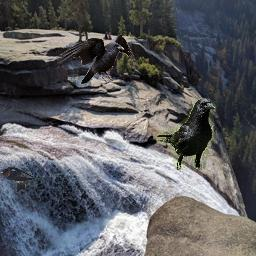Crow: (157, 98, 216, 170), (57, 34, 134, 84)
Swallow: (0, 166, 35, 192)
